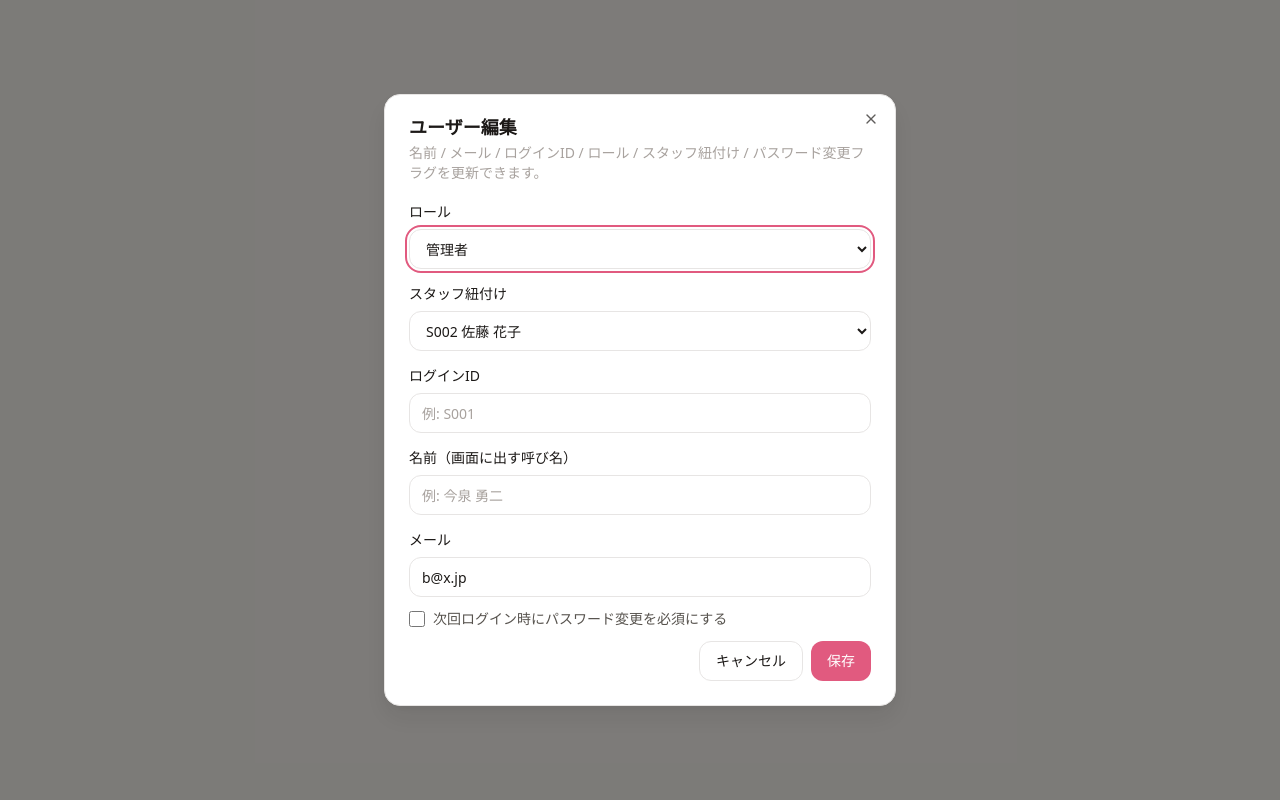
Test: UserEditDialog — P2 staff linkage › role change to staff with no username blocks submit and shows message
Select "一般" in the dropdown labelled "ロール" at (640,249), box [409,229,871,269]
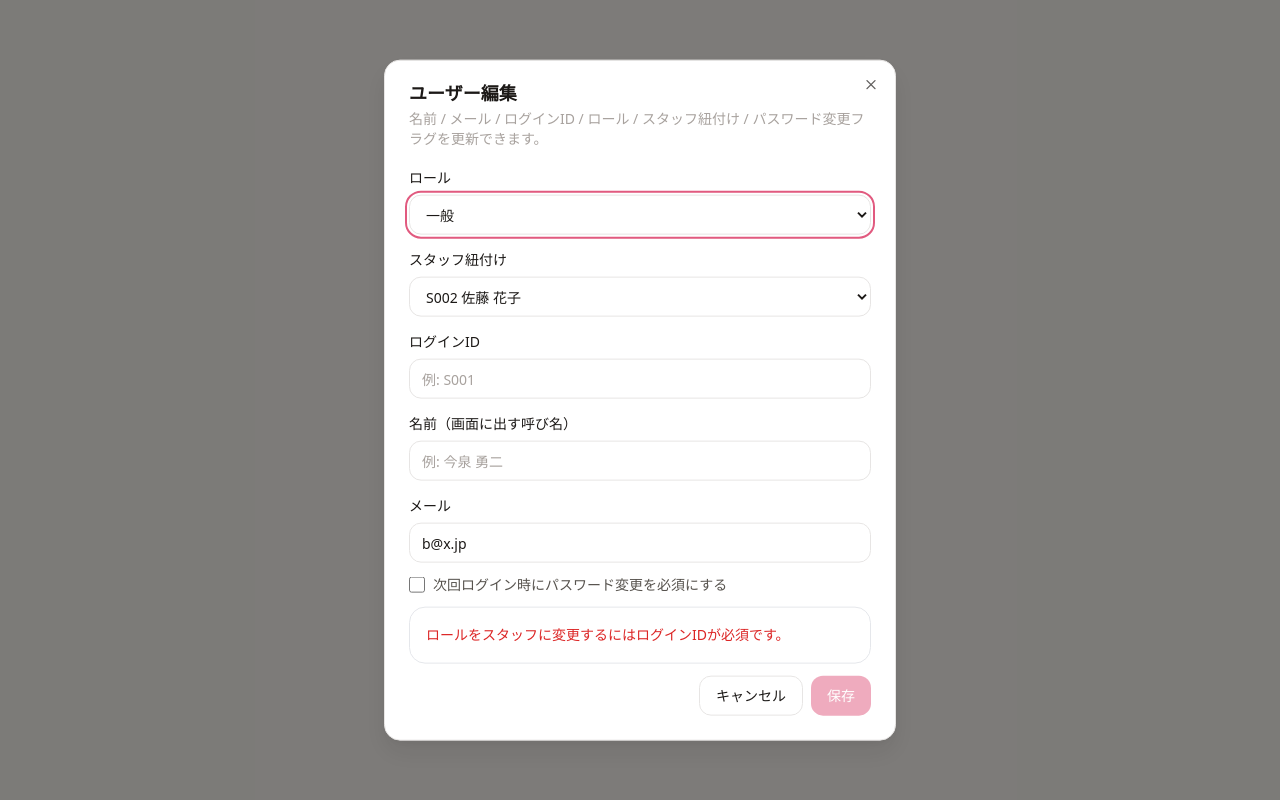
Now the text "ロールをスタッフに変更するにはログインIDが必須です。" is shown, box [426,625,790,644]
Now the button "保存" is disabled, box [811,675,871,715]
